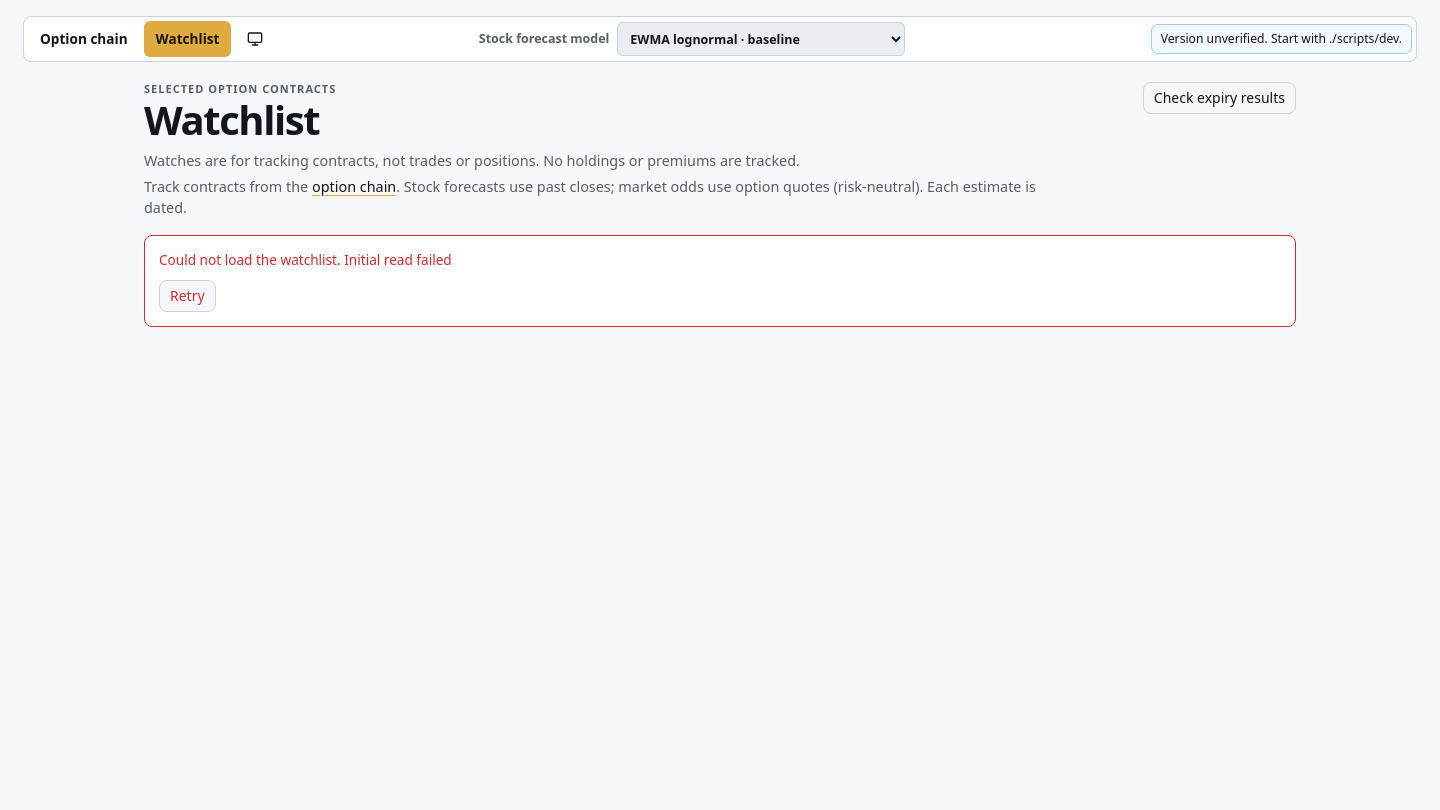
Test: keeps current-model initial retry failures visible, shares the in-flight poll, and recovers on retry
Expected: the message "Could not load the watchlist. Initial read failed Retry" is shown, 144,235 -> 1296,328
Click the button "Retry" at (187, 296), box 159,280 -> 216,312
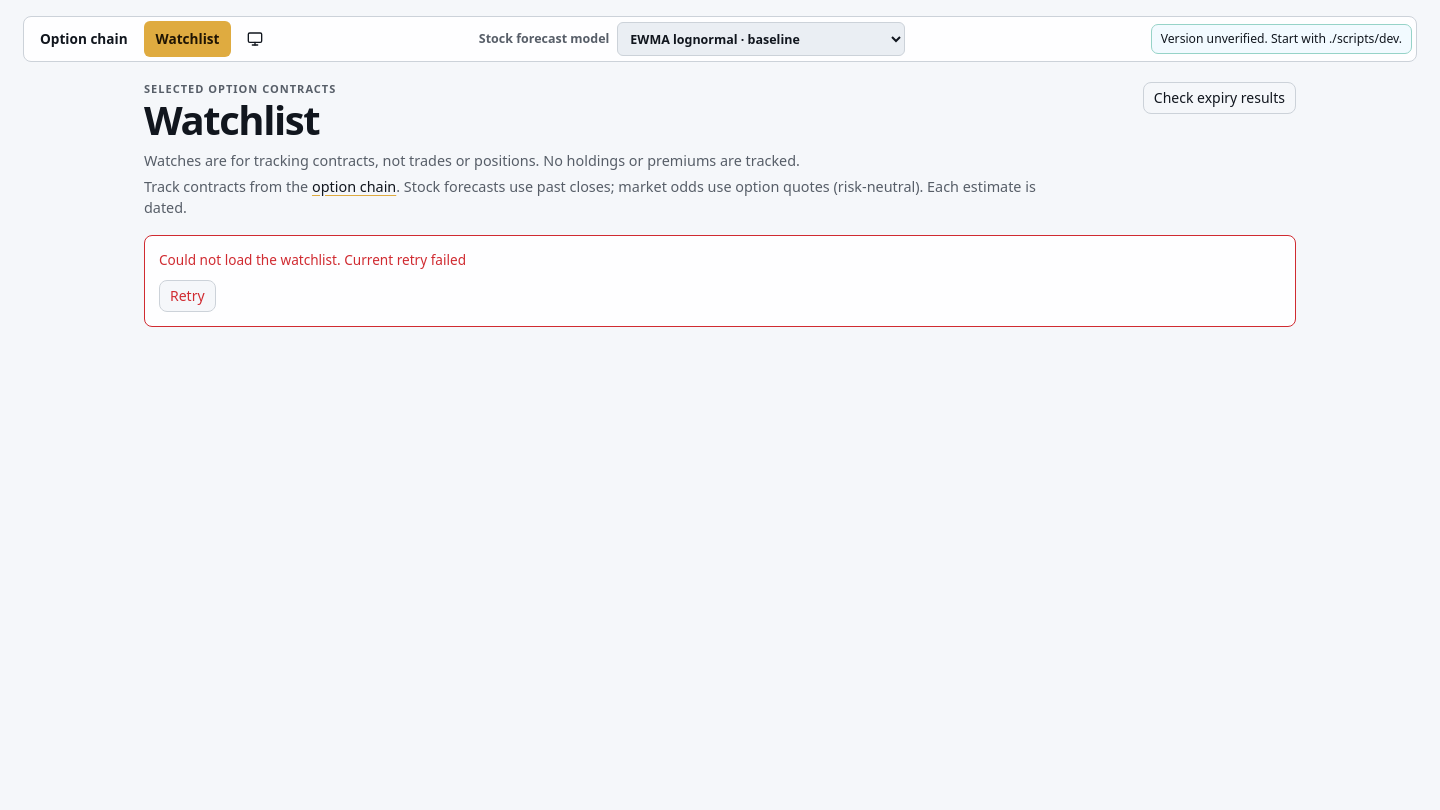
Expected: the message "Could not load the watchlist. Current retry failed Retry" is shown, 144,235 -> 1296,328
Click the button "Retry" at (187, 296), box 159,280 -> 216,312
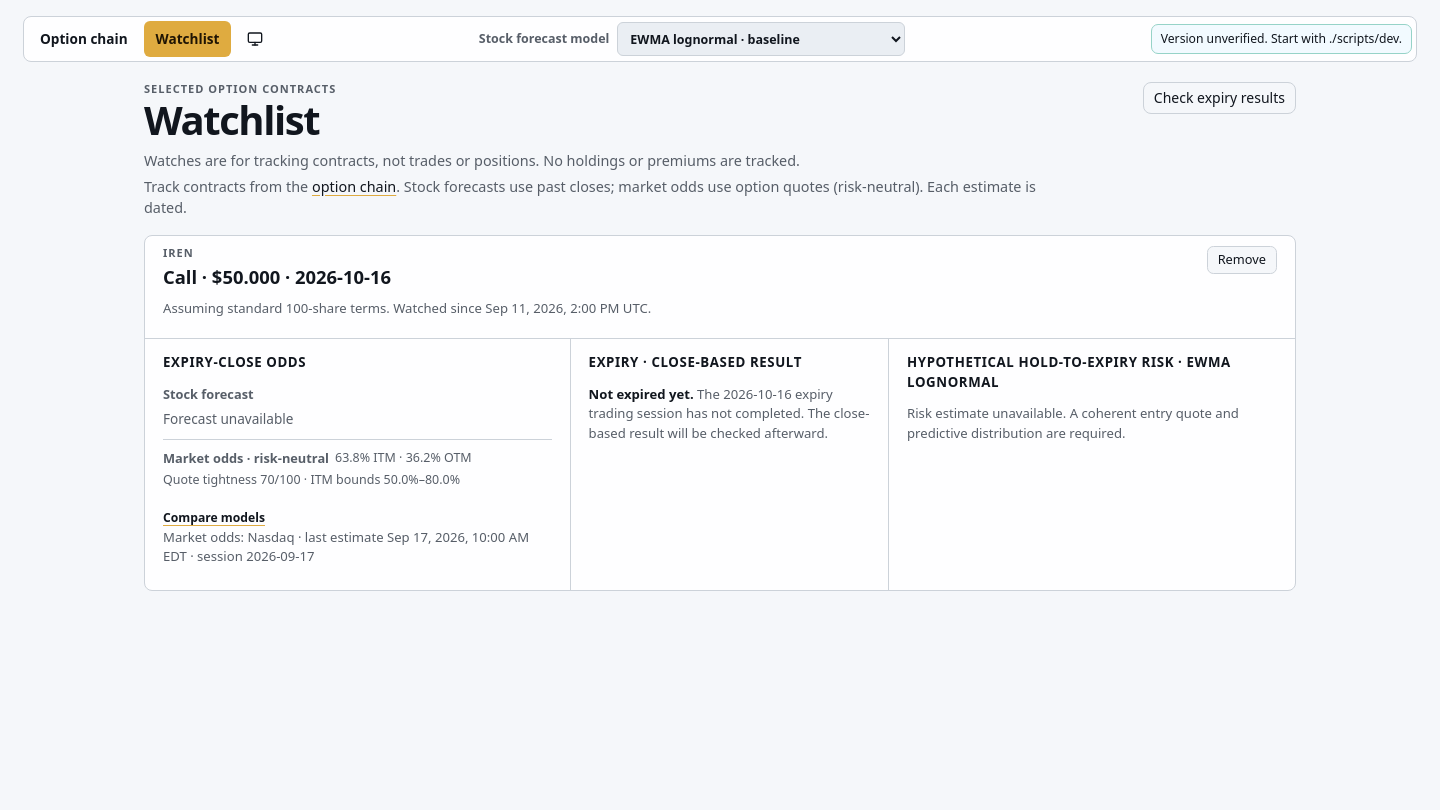
Expected: the button with aria-label "Remove IREN" is shown, 1207,246 -> 1277,274
Expected: the message "Could not load the watchlist. Current retry failed Retry" is gone
